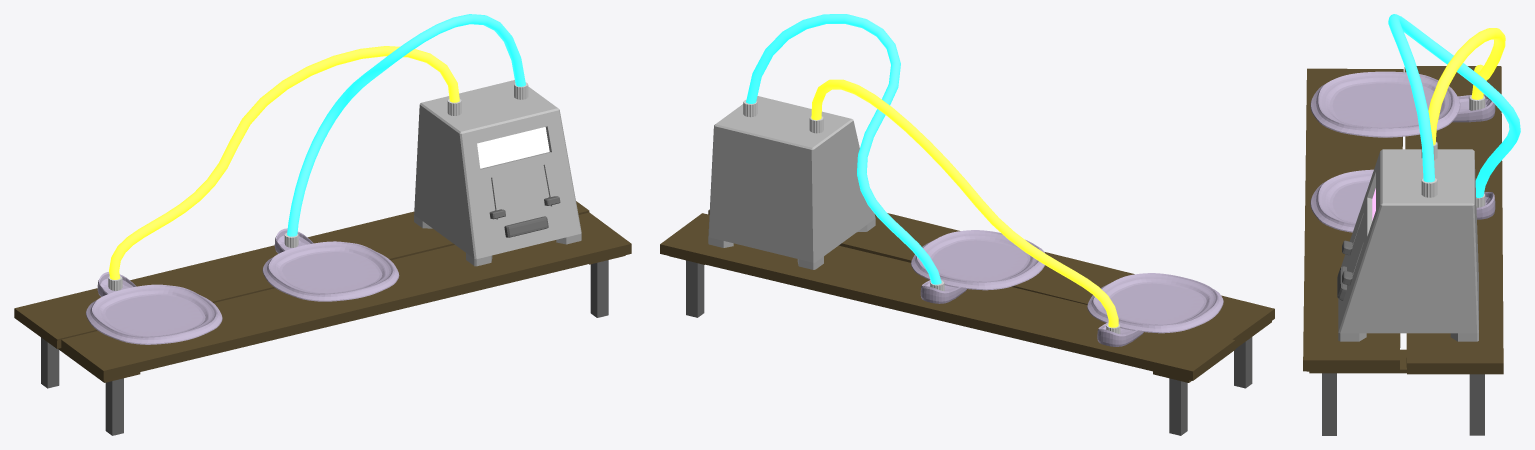
The model's file is combinator-machine.gltf.
3 renders of one model, left to right at view 1: azimuth 30°, elevation 25°; view 2: azimuth 150°, elevation 25°; view 3: azimuth 270°, elevation 25°, orthographic. The views are drawn at different scales.
Visible parts, largest first — view 1: computer, front table top piece, back table top piece, right plate, left plate, orange tube, blue tube, computer screen, front right leg, front left leg, back left leg, computer button; view 2: back table top piece, computer, front table top piece, left plate, right plate, blue tube, orange tube, back left leg, back right leg, front left leg, left plate reciever, right plate reciever; view 3: computer, front table top piece, back table top piece, left plate, blue tube, right plate, orange tube, back right leg, front right leg, left plate reciever, right table under piece, right plate reciever (+2 smaller).
Boxes of the visible parts, x1,y1,x2,y2 form: computer: [414, 80, 581, 266]; front table top piece: [61, 212, 631, 380]; back table top piece: [14, 201, 589, 348]; right plate: [262, 241, 399, 301]; left plate: [85, 284, 222, 344]; orange tube: [109, 46, 459, 279]; blue tube: [287, 14, 525, 236]; computer screen: [477, 127, 549, 168]; front right leg: [590, 260, 608, 317]; front left leg: [105, 378, 123, 435]; back left leg: [41, 337, 59, 388]; computer button: [504, 216, 548, 237]; back table top piece: [660, 213, 1235, 380]; computer: [708, 96, 875, 269]; front table top piece: [708, 210, 1274, 346]; left plate: [1087, 273, 1223, 333]; right plate: [911, 230, 1044, 290]; blue tube: [746, 14, 941, 284]; orange tube: [811, 79, 1118, 327]; back left leg: [1169, 378, 1187, 435]; back right leg: [686, 260, 704, 317]; front left leg: [1234, 337, 1252, 388]; left plate reciever: [1097, 322, 1143, 346]; right plate reciever: [920, 280, 966, 303]; computer: [1338, 149, 1478, 341]; front table top piece: [1303, 68, 1403, 371]; back table top piece: [1404, 66, 1503, 374]; left plate: [1310, 71, 1460, 137]; blue tube: [1388, 14, 1520, 197]; right plate: [1310, 169, 1373, 232]; orange tube: [1428, 28, 1505, 145]; back right leg: [1469, 374, 1484, 435]; front right leg: [1322, 373, 1336, 435]; left plate reciever: [1452, 94, 1495, 122]; right table under piece: [1309, 349, 1406, 373]; right plate reciever: [1476, 192, 1495, 219].
Bounding box in the file's own units: 9 × 4.88 × 2.81.
